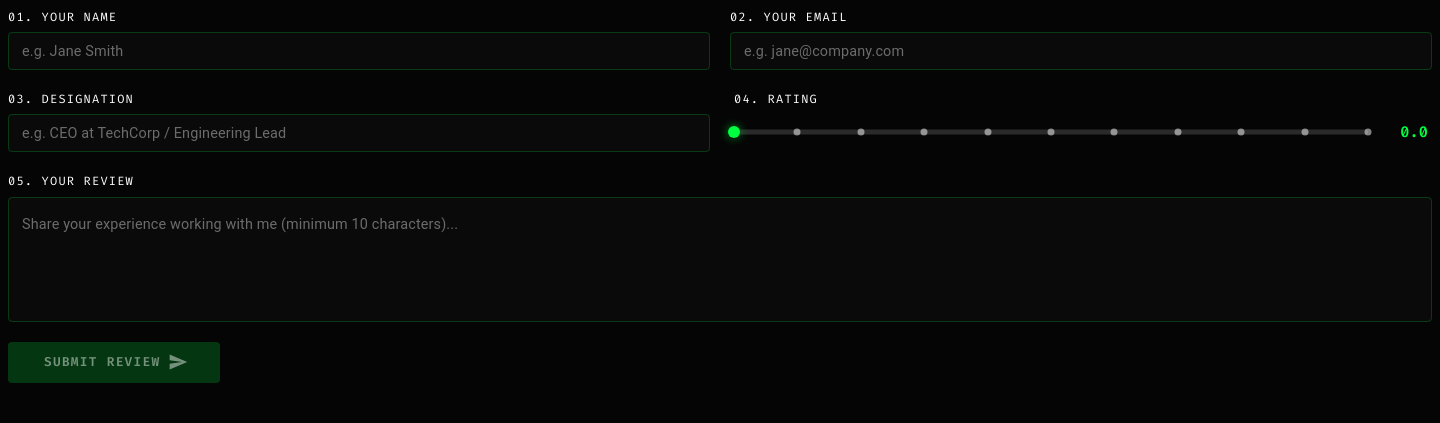
Scenario: ReviewForm Component - Production Grade Test Suite › Field Validation and Error Messages › shows validation error when name is shorter than 2 characters
Step 1. Type "A" into the field with placeholder "e.g. Jane Smith" → [359, 51], box [8, 32, 710, 70]
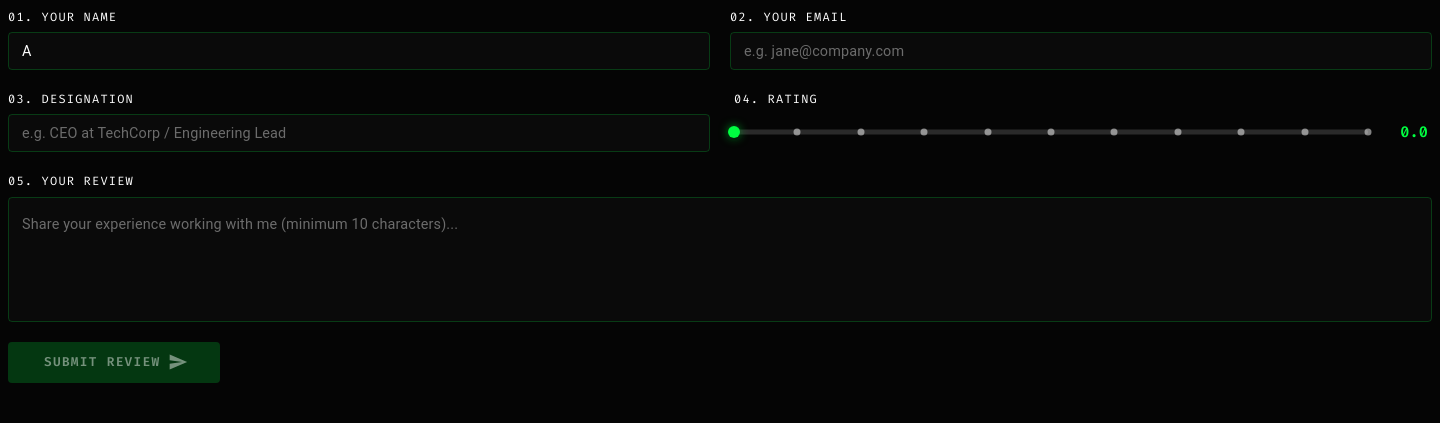
Step 2. Leave the field with placeholder "e.g. Jane Smith", box [8, 32, 710, 70]
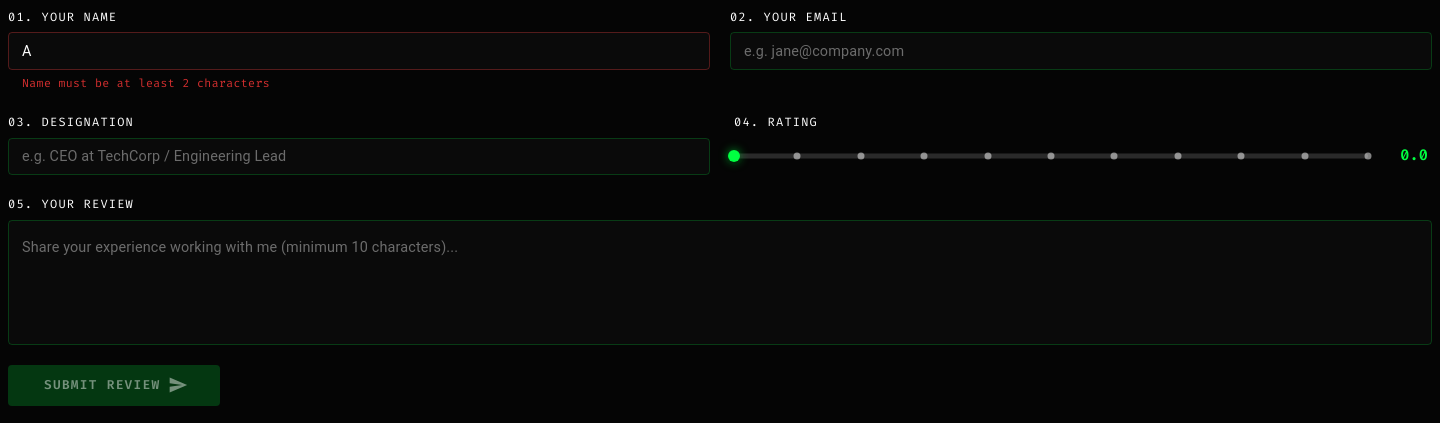
Expected: the text "Name must be at least 2 characters" is shown, [22, 76, 270, 91]
